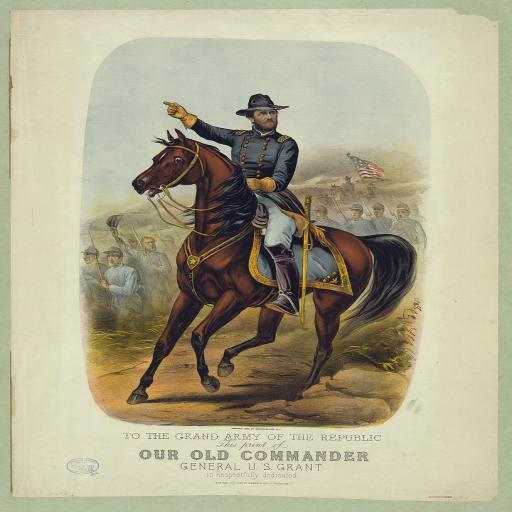horse: (125, 126, 418, 404)
